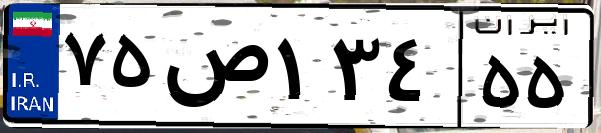1: (270, 28, 330, 110)
3: (330, 28, 385, 110)
4: (385, 28, 445, 110)
5: (475, 38, 525, 113), (525, 38, 570, 115), (110, 28, 158, 98)
7: (57, 26, 110, 100)
ص: (158, 20, 270, 120)
